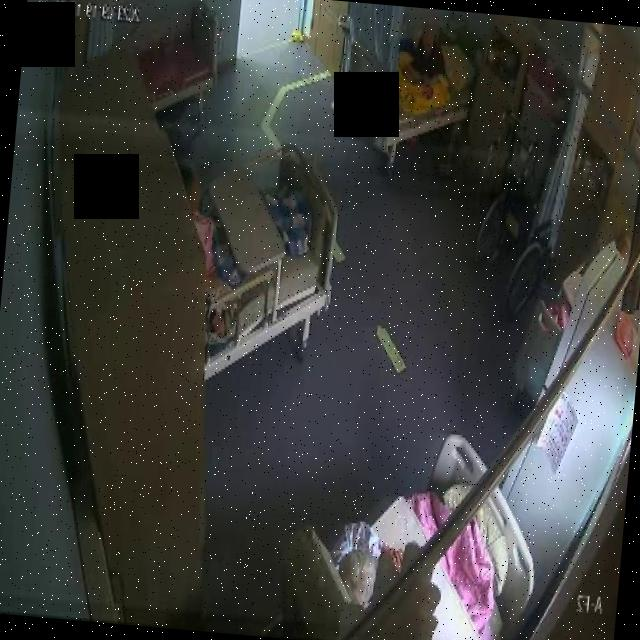bed: (294, 422, 544, 640), (190, 134, 344, 388), (342, 20, 478, 156), (134, 0, 233, 106)
